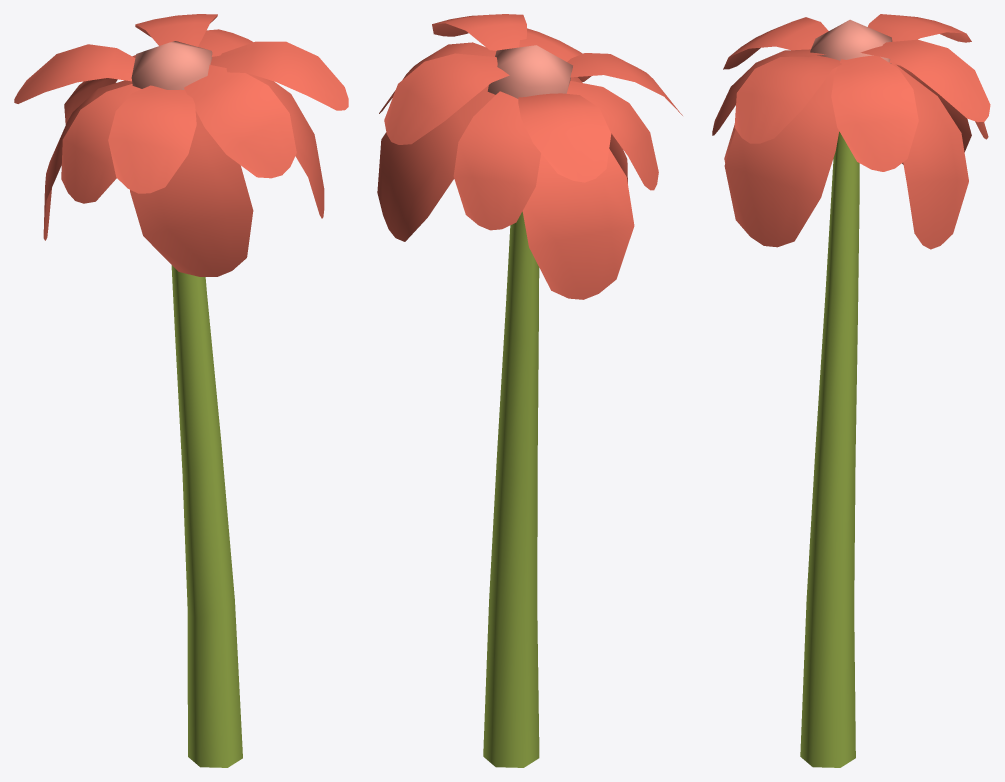
Rendered from Flower03.fbx.
The picture shows the model from 3 angles, left to right: view 1: azimuth 30°, elevation 25°; view 2: azimuth 150°, elevation 25°; view 3: azimuth 270°, elevation 25°; orthographic projection.
Parts seen in each view (by area): view 1: Flower03_LOD0; view 2: Flower03_LOD0; view 3: Flower03_LOD0.
Part boxes in pixels (<box>): Flower03_LOD0: <box>14,14,348,767</box>; Flower03_LOD0: <box>377,14,682,767</box>; Flower03_LOD0: <box>712,14,990,767</box>.
Size of what is drawn, in the model's own units: 3.72 by 10.24 by 3.58.
